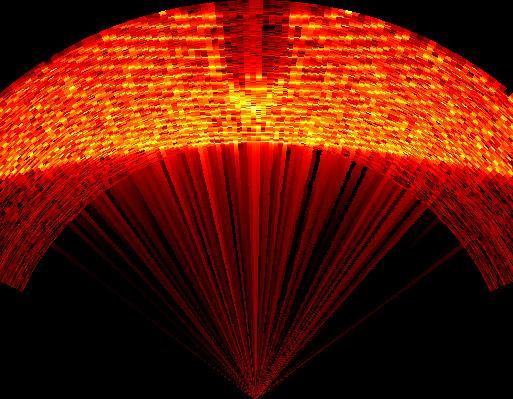box_crate: (221, 3, 292, 120)
